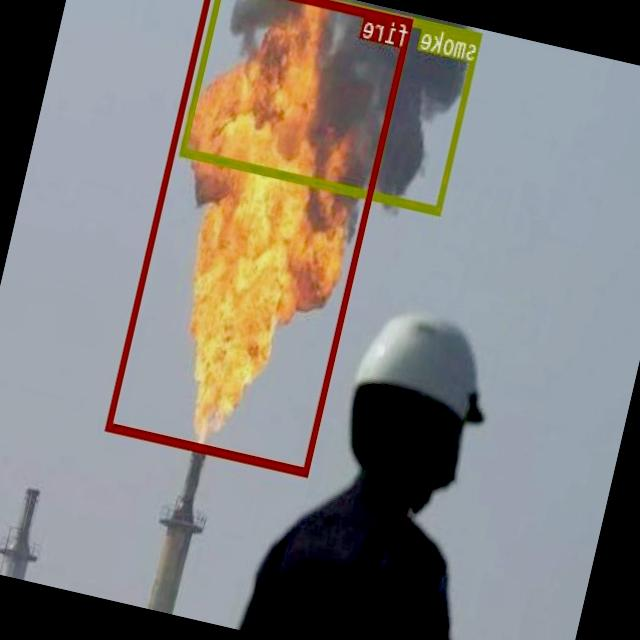fire: (107, 0, 414, 475)
smoke: (180, 0, 483, 213)
